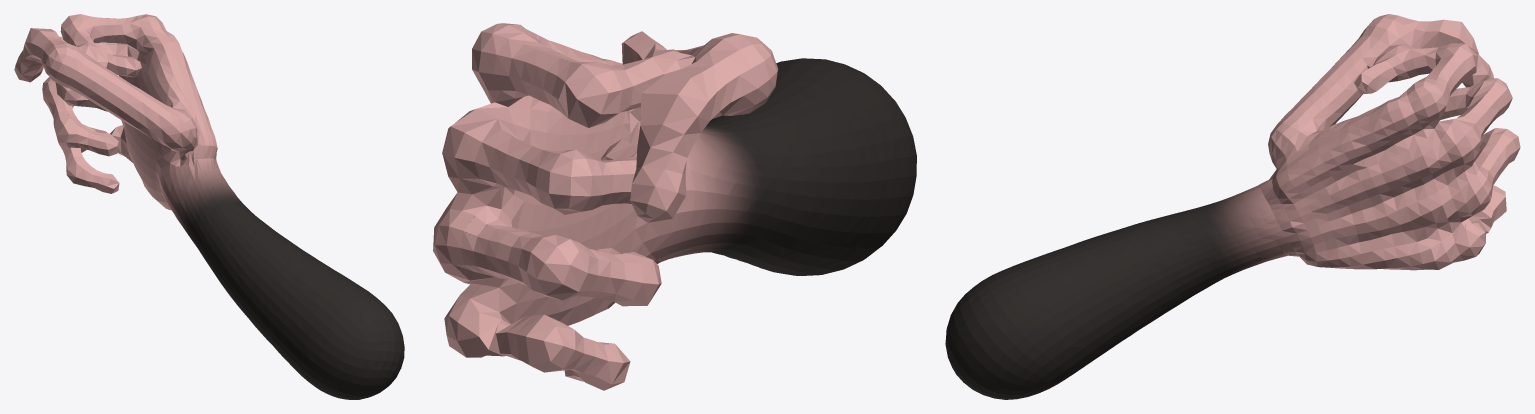
Rendered from gunny-paw.obj.
The picture shows the model from 3 angles, left to right: view 1: azimuth 30°, elevation 25°; view 2: azimuth 150°, elevation 25°; view 3: azimuth 270°, elevation 25°; orthographic projection. The views are drawn at different scales.
Visible parts, largest first — view 1: GunnyPaw; view 2: GunnyPaw; view 3: GunnyPaw.
Boxes of the visible parts, x1,y1,x2,y2 form: GunnyPaw: (14, 14, 404, 399); GunnyPaw: (433, 23, 916, 390); GunnyPaw: (945, 14, 1520, 399).
Bounding box in the file's own units: 0.1532 × 0.203 × 0.3467.
1 material, 1 textured.
